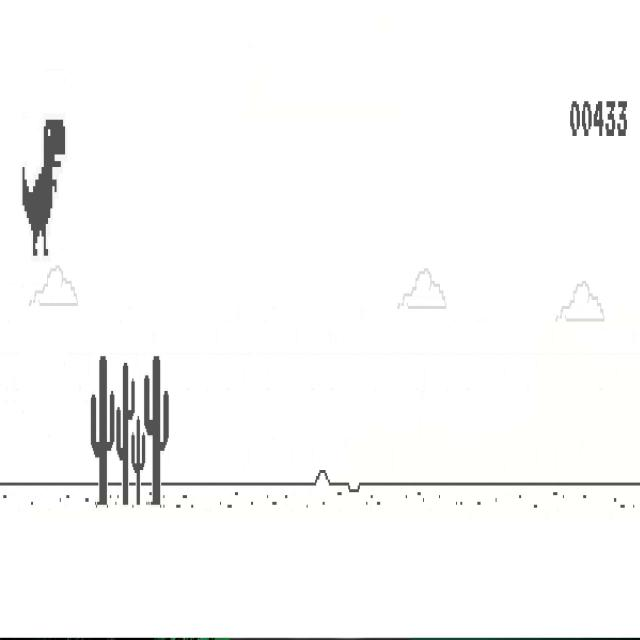cacto: (144, 355, 170, 506), (90, 355, 115, 507), (116, 362, 135, 506), (131, 416, 146, 506)
dino: (21, 118, 66, 257)
